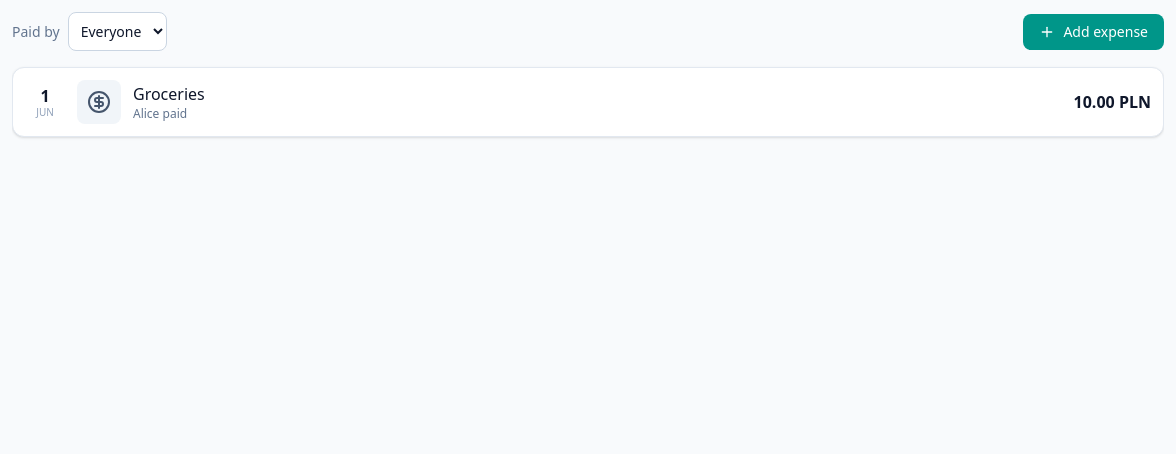
ExpensesTab — row interactions › clicking the category icon opens the quick picker without the edit view
The width and height of the screenshot is (1176, 454).
Expected: the text "Groceries" is shown, [133,83,205,105]
Click the button named "category".
click(99, 102)  # box [77,80,121,124]
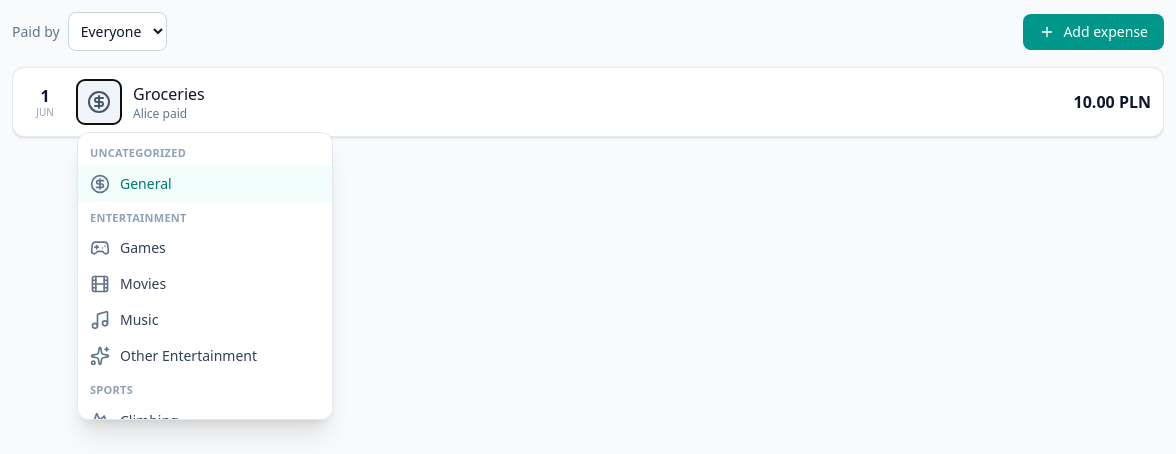
Expected: the list is shown, [77,132,333,420]
Expected: the option "General" is shown, [78,166,332,202]
